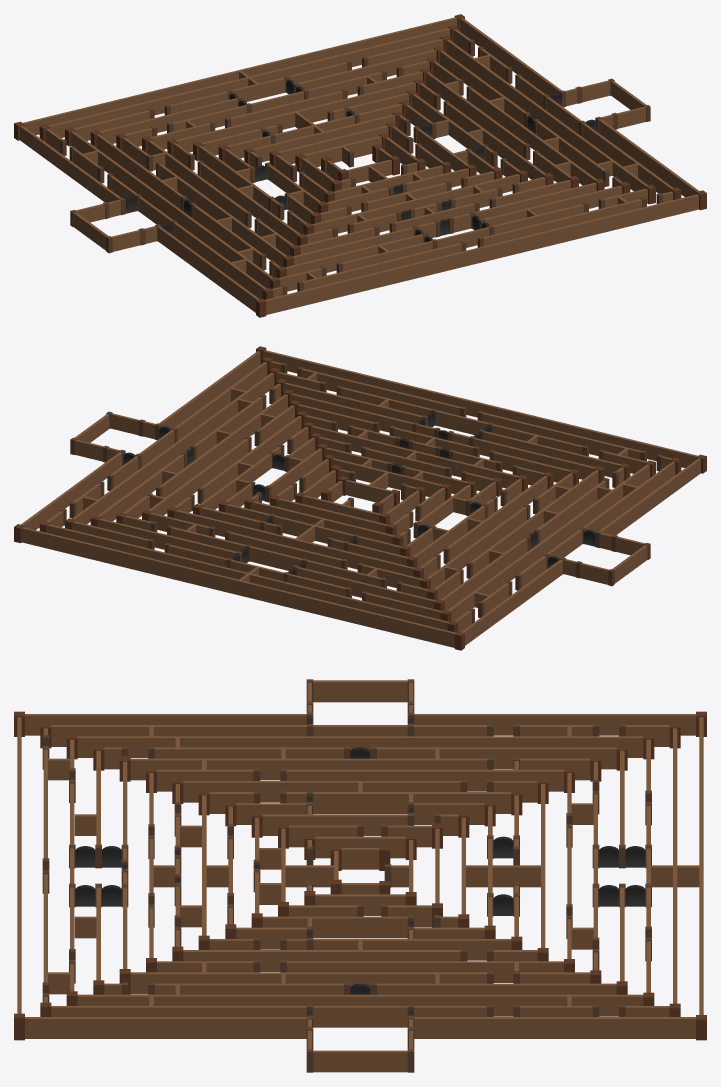
Rendered from Maze.fbx.
The picture shows the model from 3 angles, top to bottom: view 1: azimuth 30°, elevation 25°; view 2: azimuth 150°, elevation 25°; view 3: azimuth 270°, elevation 25°; orthographic projection. The views are drawn at different scales.
Visible parts, largest first — view 1: no part large enough to name; view 2: no part large enough to name; view 3: Cube.009.
Boxes of the visible parts, box(x1,y1,x2,y2) form: Cube.009: box(492, 865, 540, 887).
Size of the model in its own units: 20050 by 550 by 15750.
